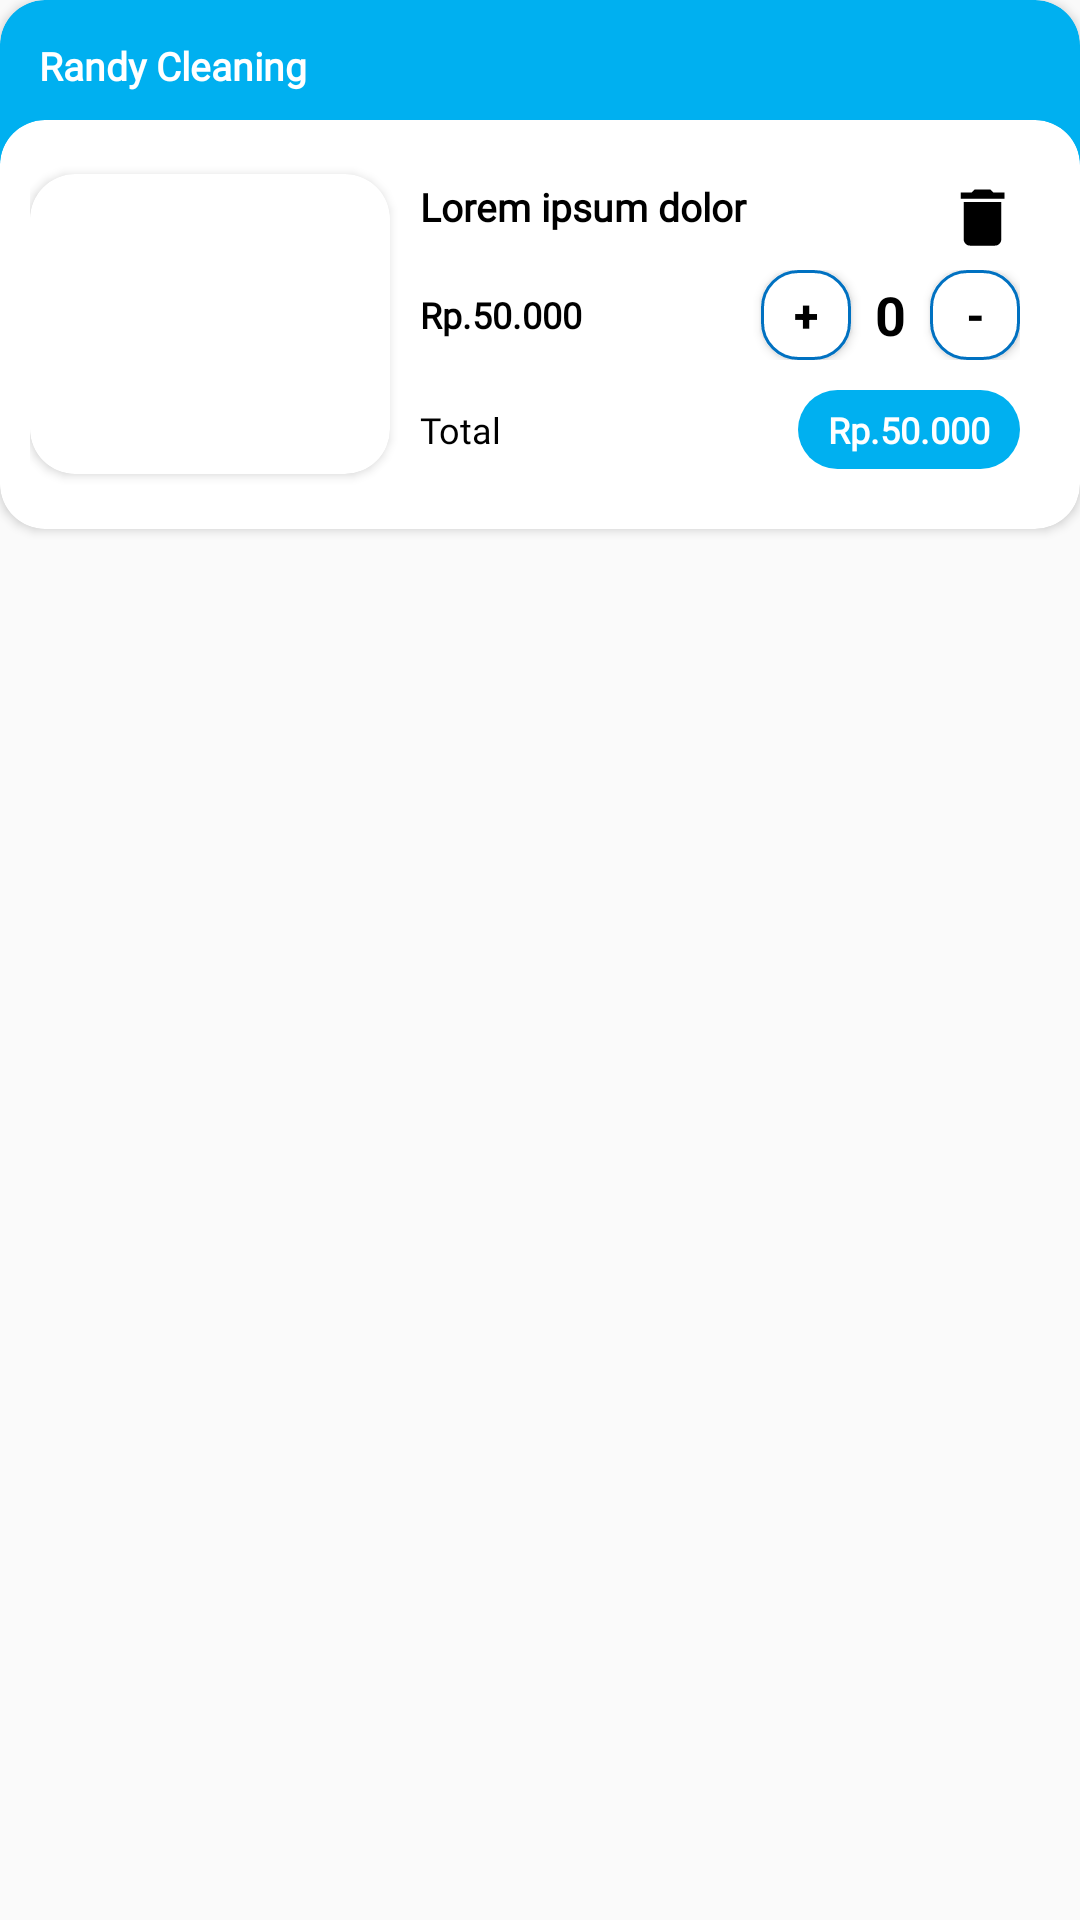

Point at icon controls on the screen. Image size 1080px×1920px, points as (x=x, y=y).
delete: (x=982, y=217)
